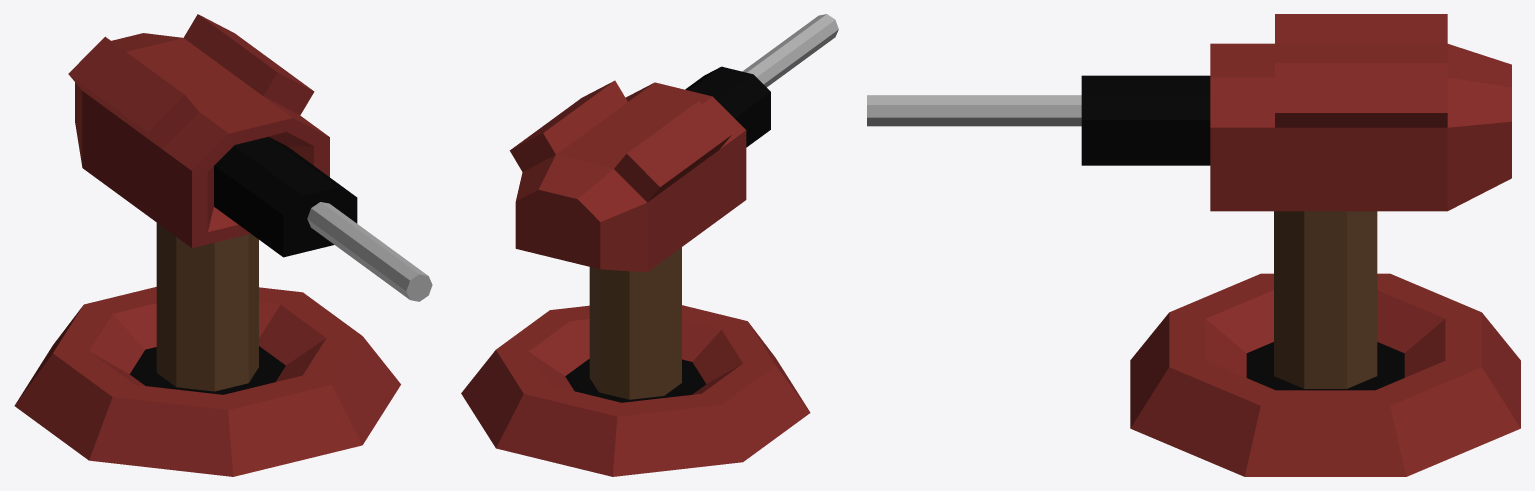
The model's file is Canon_proper.fbx.
3 views of the same model, side by side, from view 1: azimuth 30°, elevation 25°; view 2: azimuth 150°, elevation 25°; view 3: azimuth 270°, elevation 25° (orthographic). The views are drawn at different scales.
Visible parts, largest first — view 1: Base, Body, Shaft, Turret; view 2: Base, Body, Shaft, Turret; view 3: Body, Base, Turret, Shaft.
Part boxes in pixels (box(x1,y1,x2,y2)): Base: box(14, 287, 400, 476); Body: box(68, 14, 329, 247); Shaft: box(156, 223, 258, 391); Turret: box(214, 137, 432, 301); Base: box(461, 305, 810, 476); Body: box(509, 80, 746, 272); Shaft: box(589, 247, 681, 399); Turret: box(685, 14, 838, 147); Body: box(1210, 14, 1511, 211); Base: box(1130, 273, 1520, 476); Turret: box(867, 75, 1210, 165); Shaft: box(1274, 211, 1377, 388).
Size of the model in its own units: 1.29 by 2.17 by 1.3.
